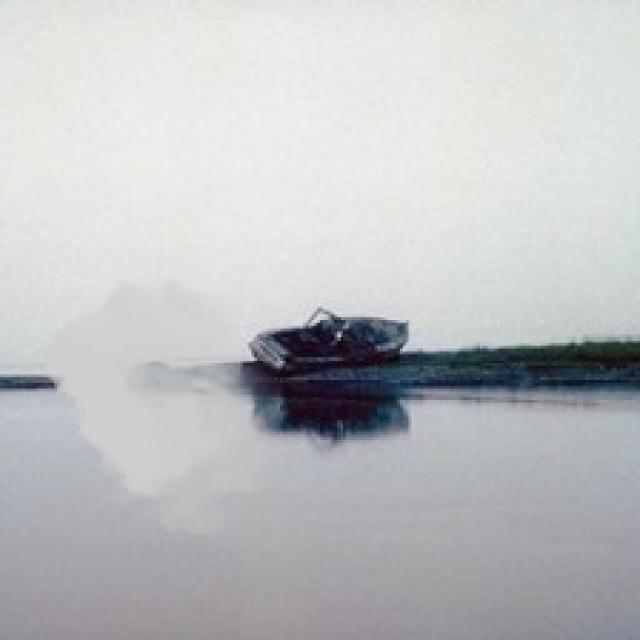smoke: (43, 277, 283, 534)
